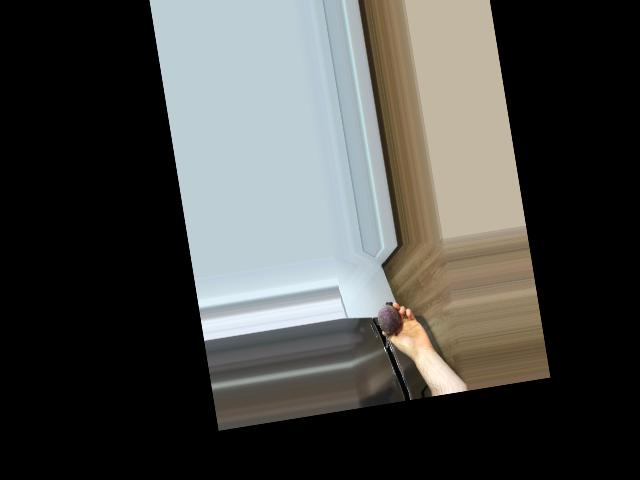beet: (375, 300, 403, 347)
